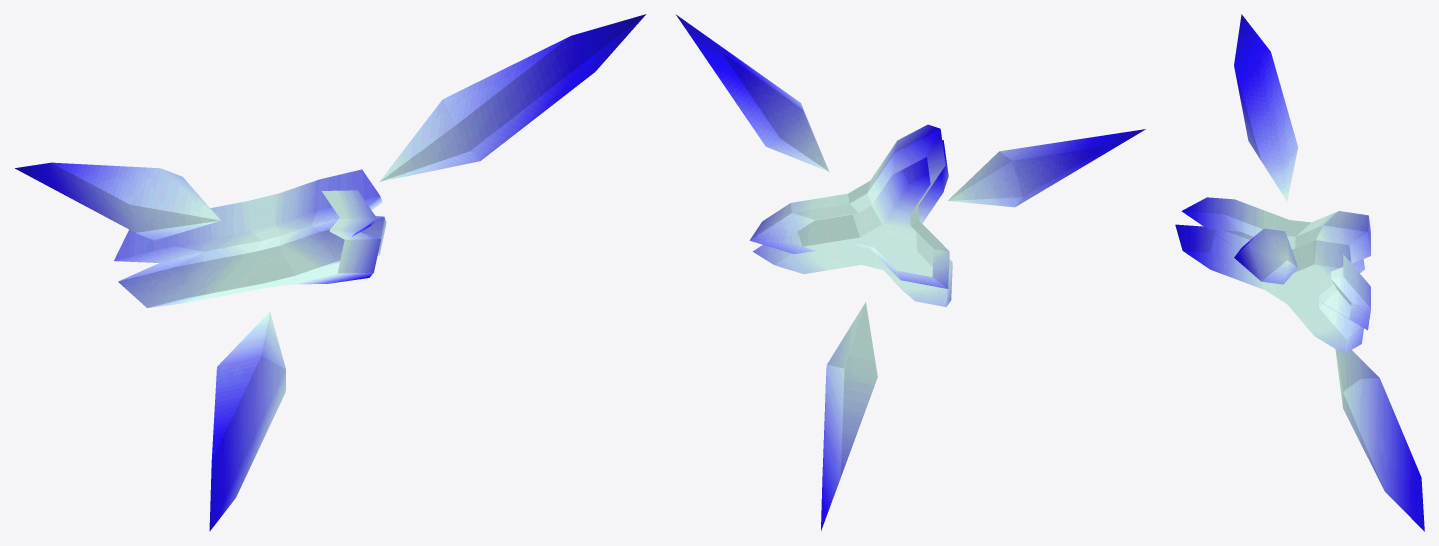
The model's file is ps2_save-icons_superlite2000vol8psyvariarmediumunit.glb.
3 renders of one model, left to right at view 1: azimuth 30°, elevation 25°; view 2: azimuth 150°, elevation 25°; view 3: azimuth 270°, elevation 25°, orthographic. The views are drawn at different scales.
Visible parts, largest first — view 1: m.ico; view 2: m.ico; view 3: m.ico.
Part boxes in pixels (x1,y1,x2,y2): m.ico: (15, 14, 646, 531); m.ico: (676, 14, 1145, 530); m.ico: (1175, 14, 1424, 531).
Size of the model in its own units: 4.22 by 3.38 by 1.9.
Materials: 1 (1 with a texture image).
